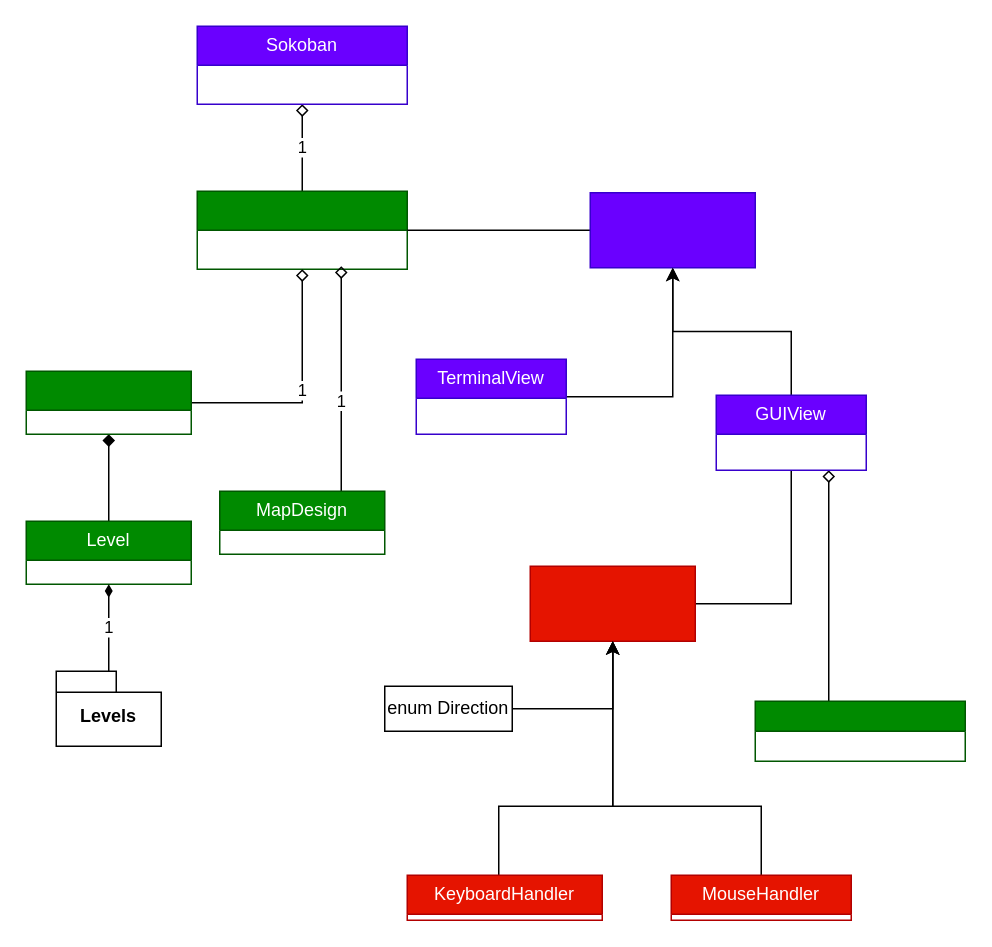
The diagram is 992 pixels wide and 947 high, and some of its shapes have lost their labels. The shapes that lost their labels are listed below. From the top down, each one's centre as x and y in pixels, then its label:
At [301,229]: "Game".
At [672,229]: "«interface» Observer".
At [108,402]: "LevelLoader".
At [612,603]: "Controller Template".
At [859,730]: "BlockManager".
